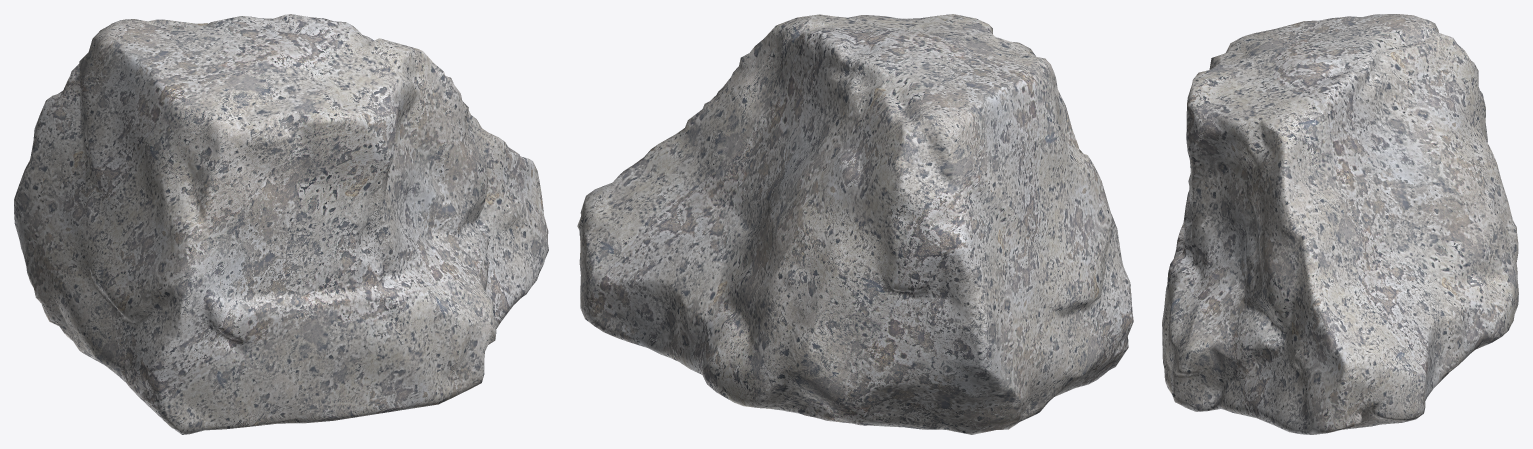
The model's file is SM_Large_Rock_D.fbx.
The picture shows the model from 3 angles, left to right: view 1: azimuth 30°, elevation 25°; view 2: azimuth 150°, elevation 25°; view 3: azimuth 270°, elevation 25°; orthographic projection. The views are drawn at different scales.
Visible parts, largest first — view 1: SM_Large_Rock_D_LOD0; view 2: SM_Large_Rock_D_LOD0; view 3: SM_Large_Rock_D_LOD0.
Boxes of the visible parts, x1,y1,x2,y2 form: SM_Large_Rock_D_LOD0: (14,14,548,434); SM_Large_Rock_D_LOD0: (577,14,1133,434); SM_Large_Rock_D_LOD0: (1162,14,1518,434).
Bounding box in the file's own units: 632 × 471 × 435.
1 material, 1 textured.
